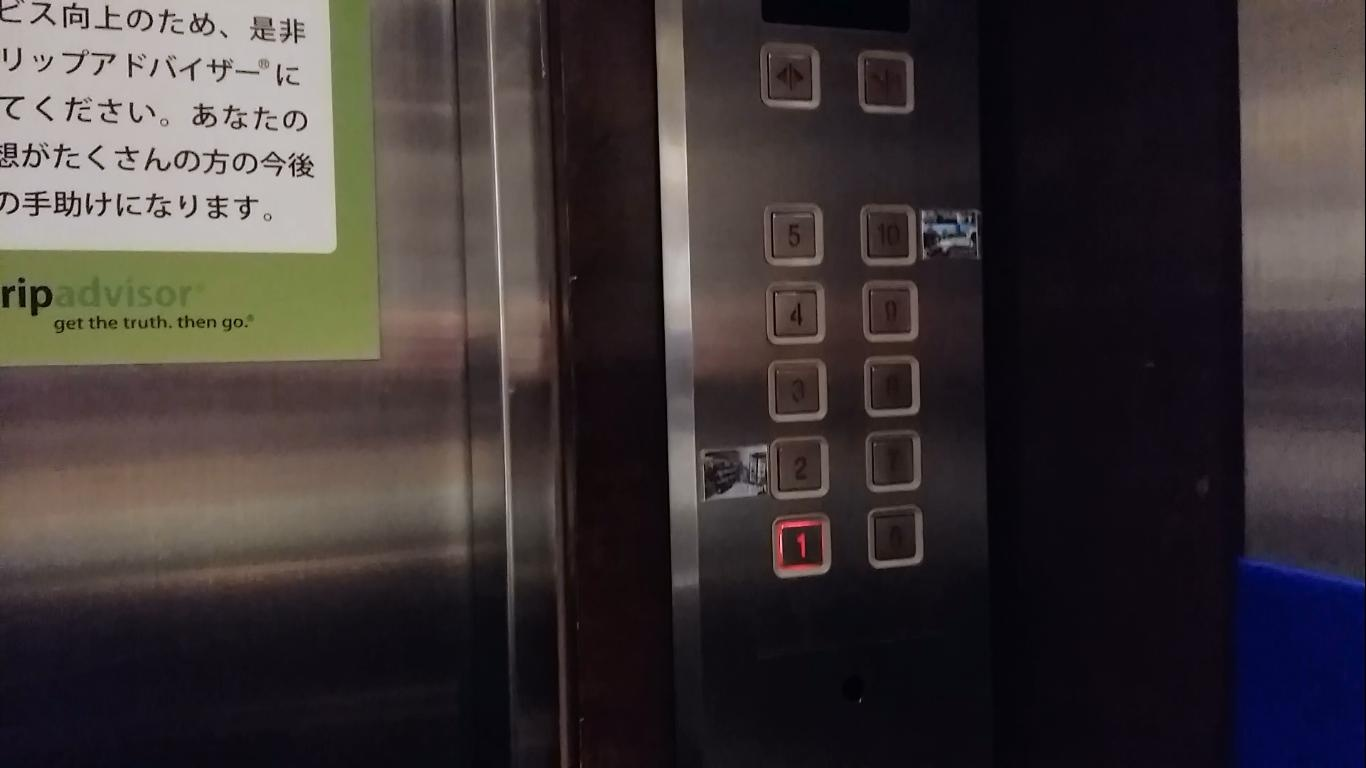1: (773, 511, 833, 579)
10: (861, 205, 917, 268)
2: (772, 435, 831, 500)
3: (768, 358, 827, 421)
4: (767, 281, 828, 345)
5: (764, 201, 824, 267)
6: (866, 506, 925, 570)
7: (861, 430, 923, 496)
8: (863, 357, 922, 417)
9: (863, 280, 917, 344)
close: (857, 49, 914, 114)
open: (759, 40, 821, 110)
